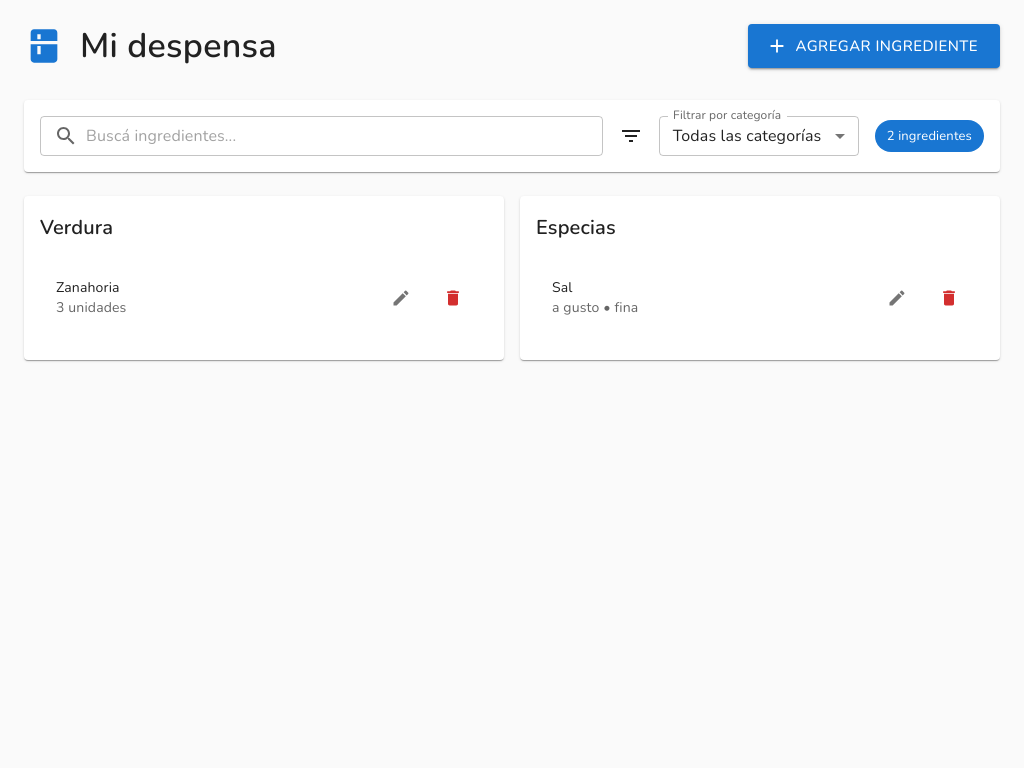
Pantry in Spanish › should render the add dialog in Spanish
Step 1. Click the button "Agregar ingrediente" → x=874, y=46, box x1=748 y1=24 x2=1000 y2=68
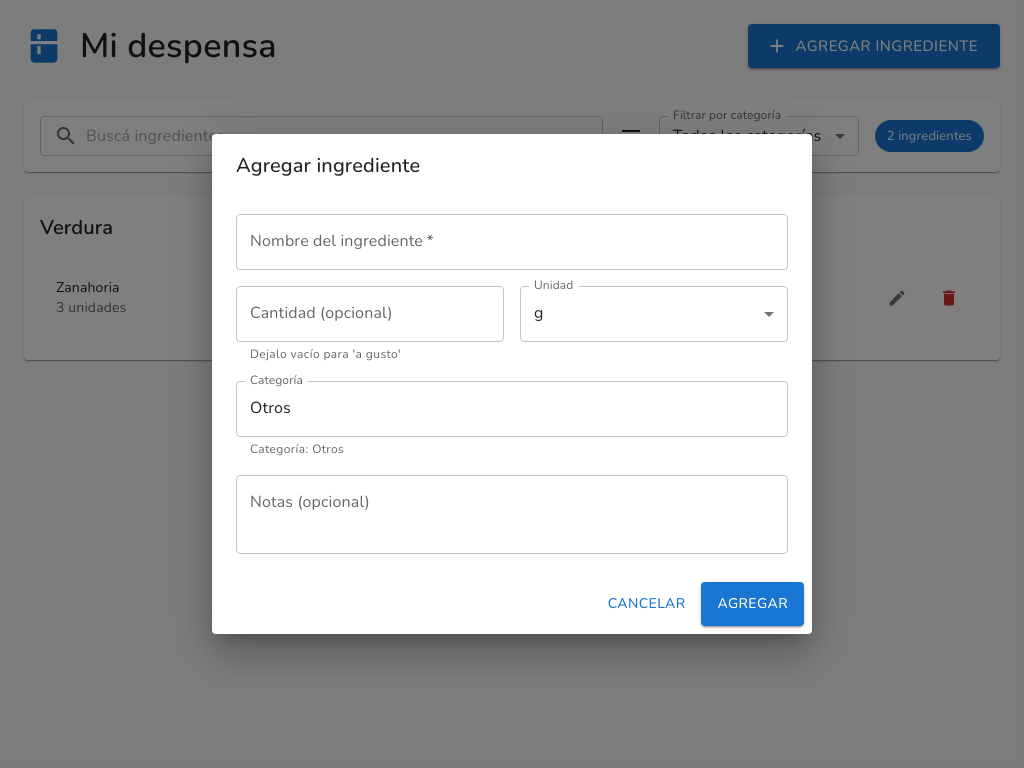
Expected: the heading "Agregar ingrediente" is shown, x1=236 y1=152 x2=420 y2=179
Expected: the field labelled "Nombre del ingrediente *" is shown, x1=236 y1=214 x2=788 y2=270
Expected: the number field labelled "Cantidad (opcional)" is shown, x1=236 y1=286 x2=504 y2=342
